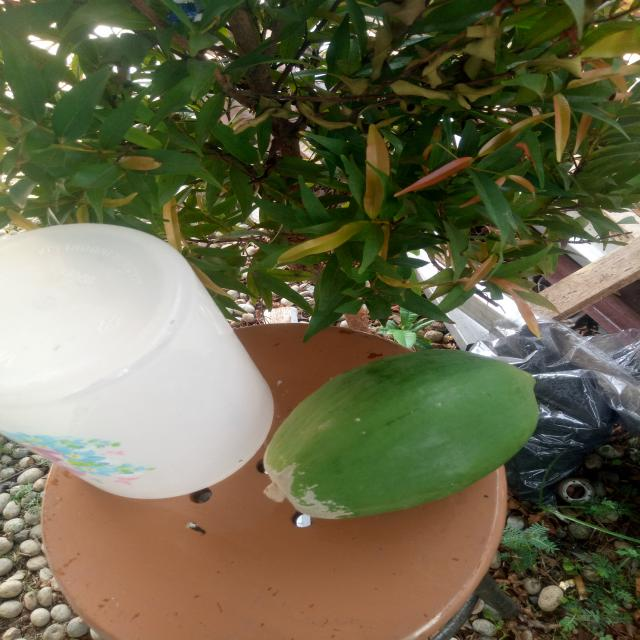Pepaya unrippen: (266, 347, 544, 516)
